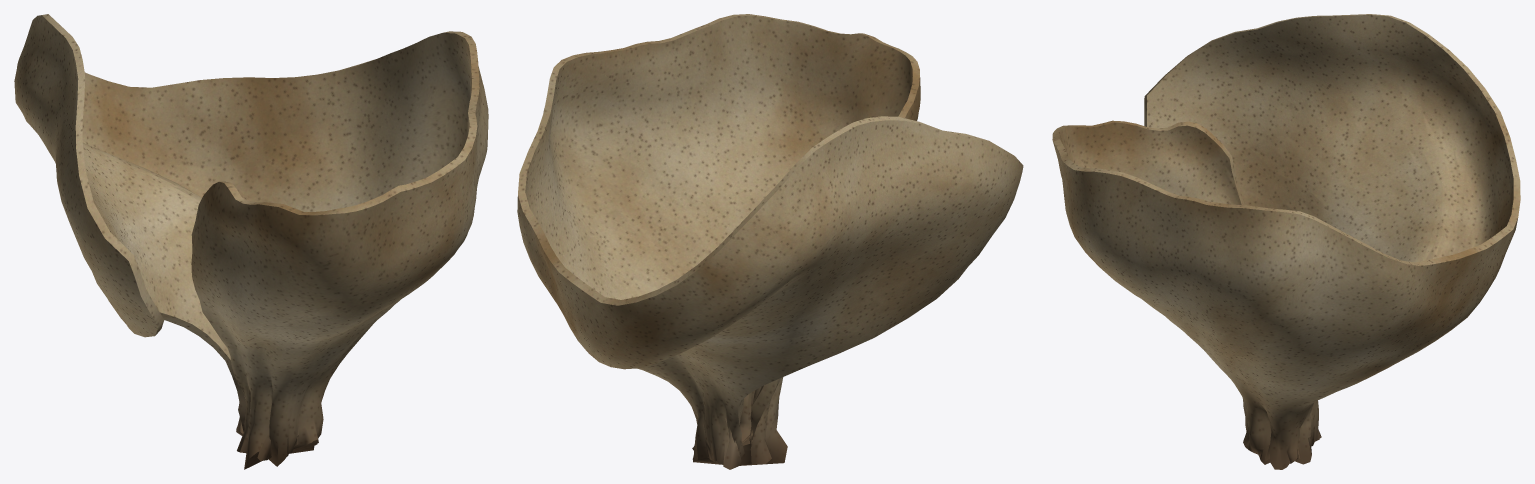
Rendered from Deep-water Sponge.glb.
3 views of the same model, side by side, from view 1: azimuth 30°, elevation 25°; view 2: azimuth 150°, elevation 25°; view 3: azimuth 270°, elevation 25° (orthographic). The views are drawn at different scales.
Parts seen in each view (by area): view 1: _TEMP_Corallistes_Optimized_Export; view 2: _TEMP_Corallistes_Optimized_Export; view 3: _TEMP_Corallistes_Optimized_Export.
Boxes of the visible parts, bbox=[...] form: _TEMP_Corallistes_Optimized_Export: bbox=[14, 14, 488, 469]; _TEMP_Corallistes_Optimized_Export: bbox=[517, 14, 1023, 469]; _TEMP_Corallistes_Optimized_Export: bbox=[1052, 14, 1520, 469].
Size of the model in its own units: 1.07 by 0.9985 by 1.13.
1 material, 1 textured.
